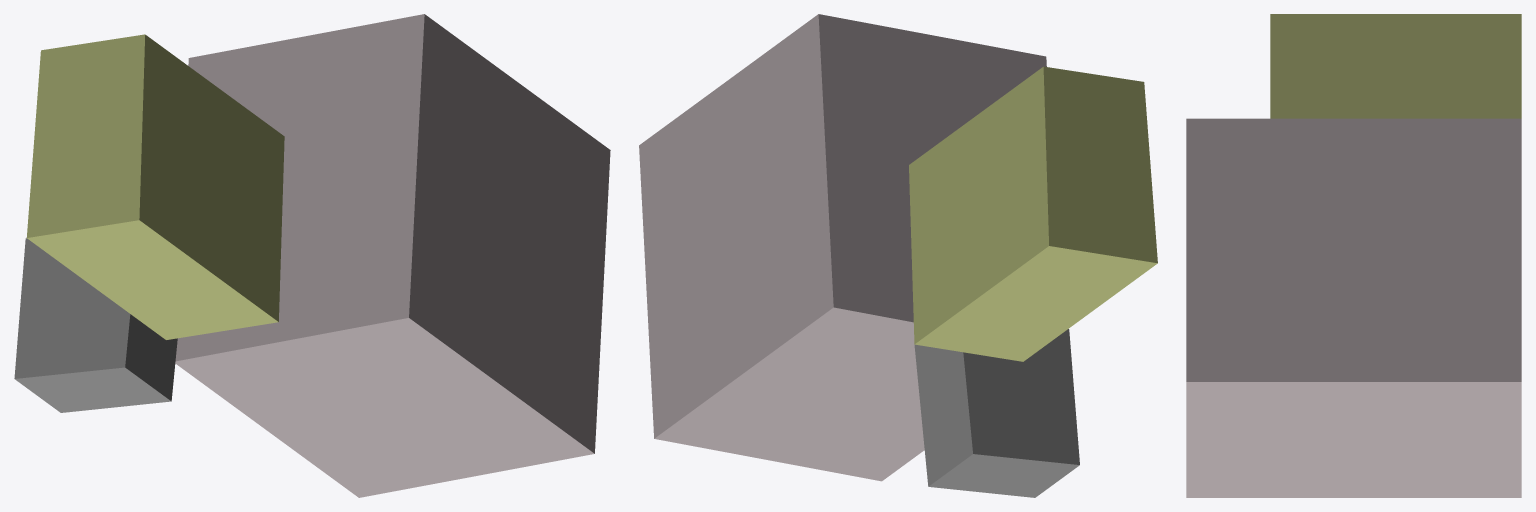
3 views of the same model, side by side, from view 1: azimuth 30°, elevation 25°; view 2: azimuth 150°, elevation 25°; view 3: azimuth 270°, elevation 25° (orthographic). The views are drawn at different scales.
Parts seen in each view (by area): view 1: 0_1_0_0_2_1_0_0_3_1; view 2: 0_1_0_0_2_1_0_0_3_1; view 3: 0_1_0_0_2_1_0_0_3_1.
Part boxes in pixels (x1=…): 0_1_0_0_2_1_0_0_3_1: x1=14, y1=14, x2=610, y2=497; 0_1_0_0_2_1_0_0_3_1: x1=639, y1=14, x2=1157, y2=497; 0_1_0_0_2_1_0_0_3_1: x1=1186, y1=14, x2=1521, y2=497.
Bounding box in the file's own units: 15.29 × 12.72 × 12.
